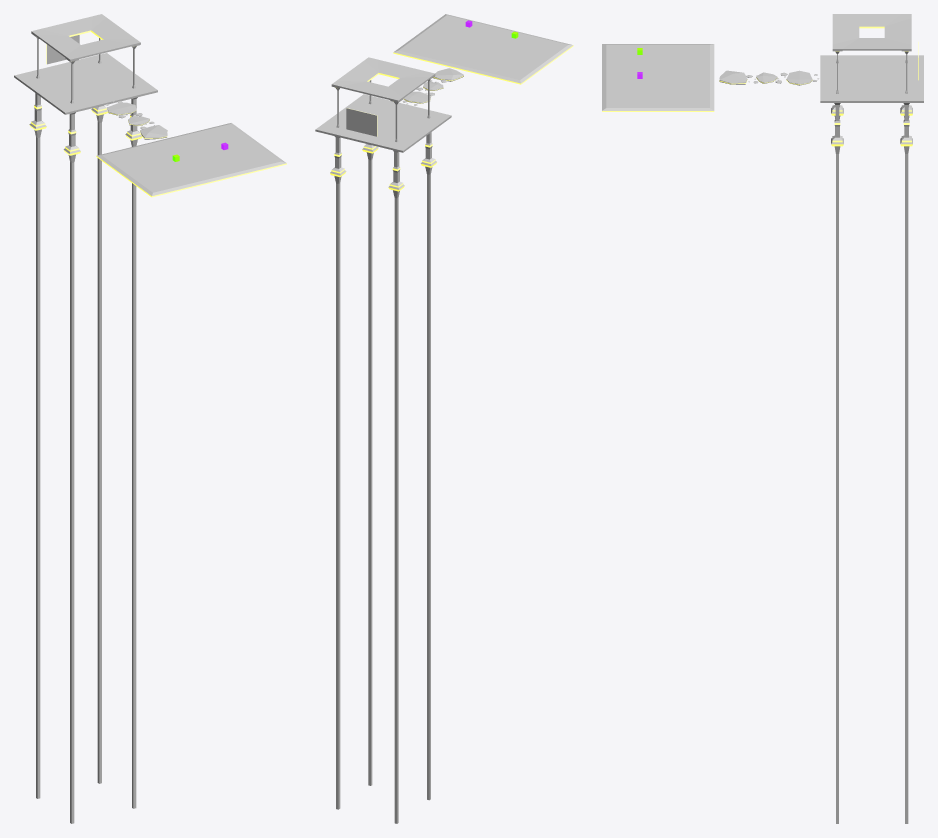
File: HUB.glb
3 views of the same model, side by side, from view 1: azimuth 30°, elevation 25°; view 2: azimuth 150°, elevation 25°; view 3: azimuth 270°, elevation 25° (orthographic). The views are drawn at different scales.
Visible parts, largest first — view 1: platforme de spawn, platforme des portaille, petit pont; view 2: platforme de spawn, platforme des portaille, petit pont, panneau affichage; view 3: platforme de spawn, platforme des portaille, petit pont.
Boxes of the visible parts, <box> form: platforme de spawn: <box>14,14,157,823</box>; platforme des portaille: <box>96,123,286,197</box>; petit pont: <box>105,101,167,139</box>; platforme de spawn: <box>315,57,451,823</box>; platforme des portaille: <box>393,14,573,84</box>; petit pont: <box>402,68,463,105</box>; panneau affichage: <box>346,108,377,136</box>; platforme de spawn: <box>820,14,923,823</box>; platforme des portaille: <box>602,44,714,111</box>; petit pont: <box>719,70,819,85</box>.
Bounding box in the file's own units: 11.11 × 60.22 × 22.63.
